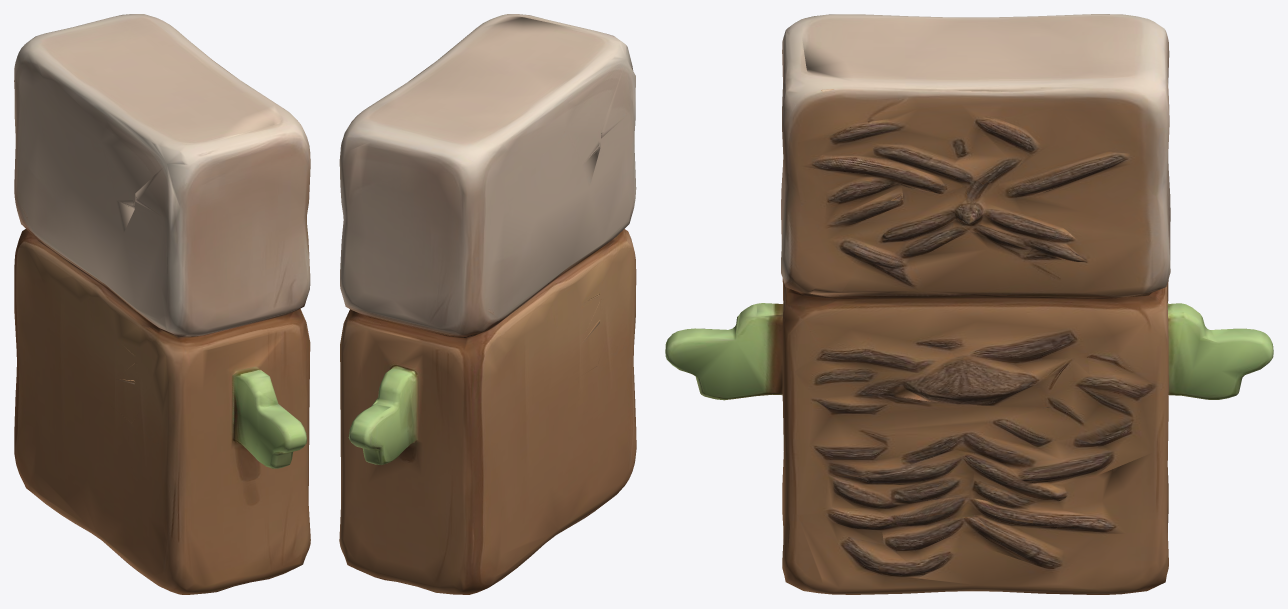
3 renders of one model, left to right at view 1: azimuth 30°, elevation 25°; view 2: azimuth 150°, elevation 25°; view 3: azimuth 270°, elevation 25°, orthographic. The views are drawn at different scales.
Visible parts, largest first — view 1: node_0; view 2: node_0; view 3: node_0.
Boxes of the visible parts, bbox=[...] form: node_0: bbox=[14, 14, 310, 594]; node_0: bbox=[339, 14, 636, 594]; node_0: bbox=[665, 14, 1273, 594].
Bounding box in the file's own units: 0.9644 × 2.63 × 2.82.
1 material, 1 textured.
